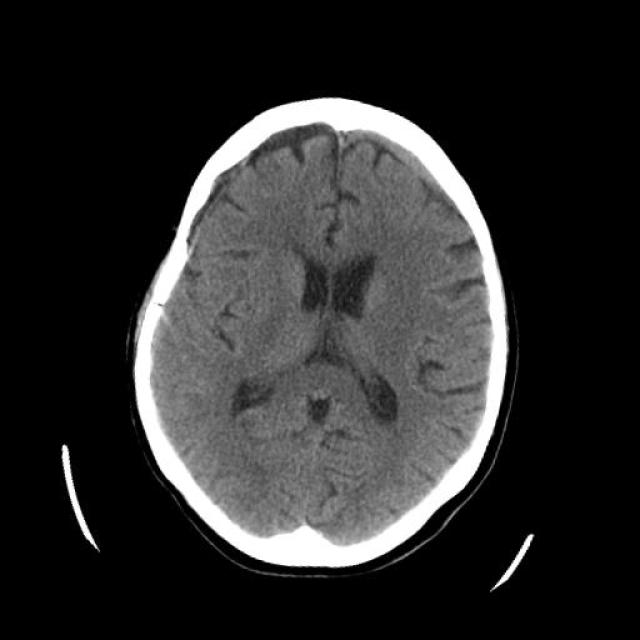Subdural: (325, 114, 476, 228)
